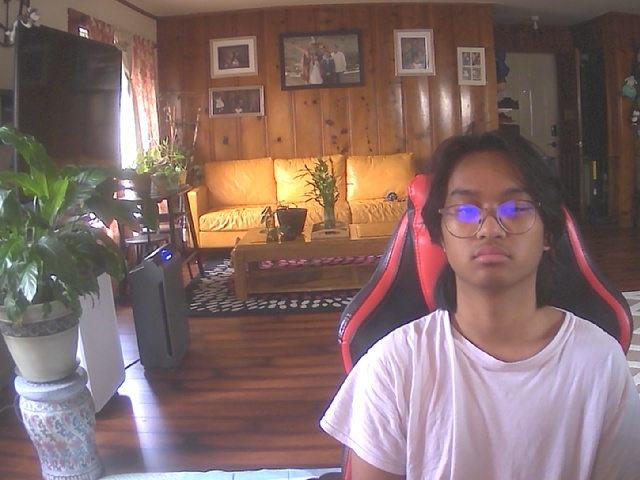neutral: (436, 137, 558, 292)
